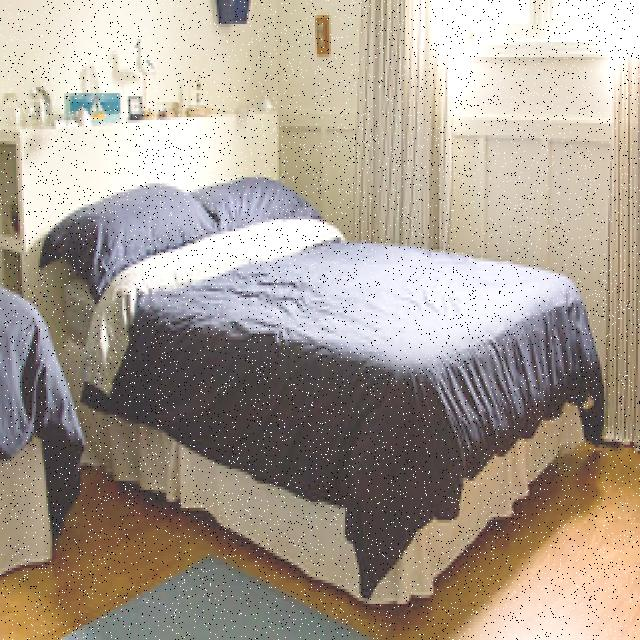bed: (40, 174, 608, 606)
